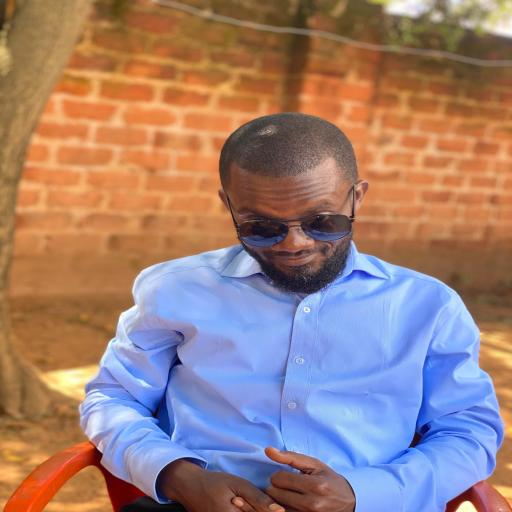MATTHIEU: (207, 109, 370, 304)
